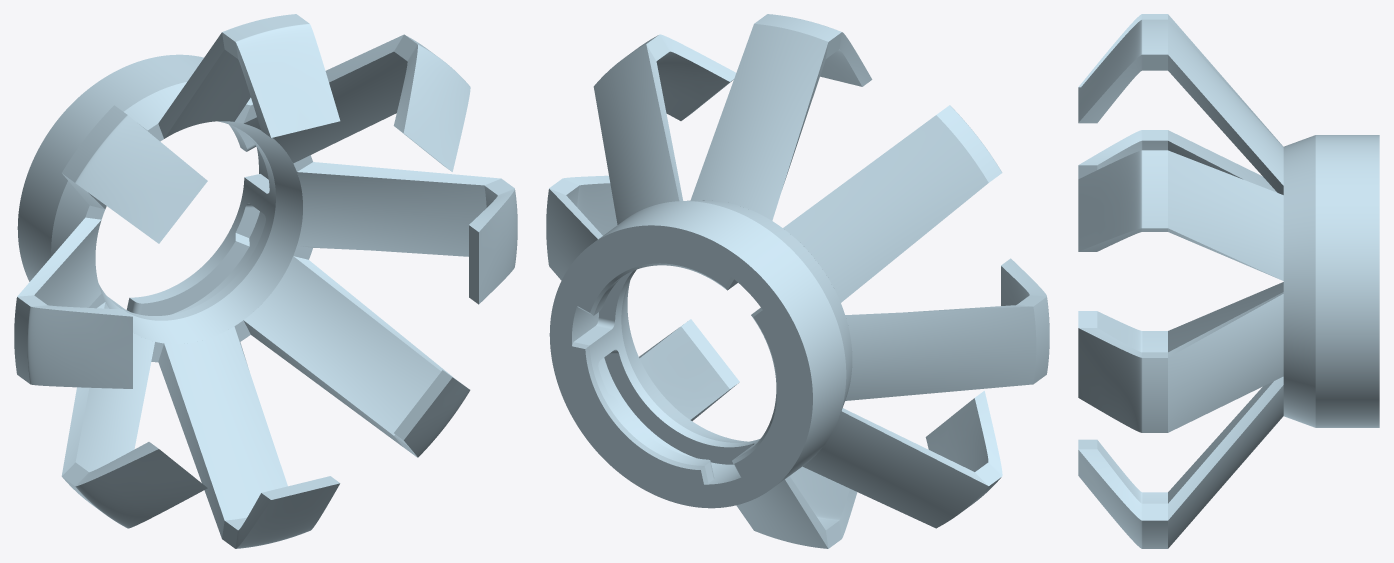
File: diamond_holder.gltf
3 renders of one model, left to right at view 1: azimuth 30°, elevation 25°; view 2: azimuth 150°, elevation 25°; view 3: azimuth 270°, elevation 25°, orthographic. The views are drawn at different scales.
Parts seen in each view (by area): view 1: mesh64_meshnode_64, mesh162_meshnode_162, mesh78_meshnode_78, mesh7_meshnode_7, mesh110_meshnode_110, mesh5_meshnode_5, mesh96_meshnode_96, mesh124_meshnode_124, mesh148_meshnode_148, mesh82_meshnode_82, mesh138_meshnode_138, mesh92_meshnode_92 (+27 smaller); view 2: mesh3_meshnode_3, mesh118_meshnode_118, mesh104_meshnode_104, mesh132_meshnode_132, mesh7_meshnode_7, mesh90_meshnode_90, mesh146_meshnode_146, mesh52_meshnode_52, mesh8_meshnode_8, mesh76_meshnode_76, mesh136_meshnode_136, mesh19_meshnode_19 (+20 smaller); view 3: mesh7_meshnode_7, mesh146_meshnode_146, mesh4_meshnode_4, mesh160_meshnode_160, mesh138_meshnode_138, mesh152_meshnode_152, mesh132_meshnode_132, mesh62_meshnode_62, mesh124_meshnode_124, mesh141_meshnode_141, mesh155_meshnode_155, mesh92_meshnode_92 (+19 smaller).
Boxes of the visible parts, x1=… form: mesh64_meshnode_64: x1=244, y1=256, x2=441, y2=435; mesh162_meshnode_162: x1=297, y1=172, x2=486, y2=256; mesh78_meshnode_78: x1=164, y1=326, x2=287, y2=520; mesh7_meshnode_7: x1=17, y1=54, x2=203, y2=281; mesh110_meshnode_110: x1=75, y1=115, x2=207, y2=243; mesh5_meshnode_5: x1=99, y1=121, x2=302, y2=344; mesh96_meshnode_96: x1=27, y1=306, x2=132, y2=388; mesh124_meshnode_124: x1=235, y1=23, x2=340, y2=137; mesh148_meshnode_148: x1=244, y1=51, x2=407, y2=163; mesh82_meshnode_82: x1=75, y1=449, x2=207, y2=528; mesh138_meshnode_138: x1=404, y1=44, x2=470, y2=171; mesh92_meshnode_92: x1=75, y1=302, x2=154, y2=472; mesh3_meshnode_3: x1=549, y1=225, x2=812, y2=508; mesh118_meshnode_118: x1=783, y1=115, x2=988, y2=302; mesh104_meshnode_104: x1=845, y1=306, x2=1036, y2=400; mesh132_meshnode_132: x1=690, y1=24, x2=828, y2=220; mesh7_meshnode_7: x1=595, y1=201, x2=846, y2=485; mesh90_meshnode_90: x1=802, y1=411, x2=988, y2=528; mesh146_meshnode_146: x1=593, y1=44, x2=679, y2=224; mesh52_meshnode_52: x1=639, y1=326, x2=729, y2=419; mesh8_meshnode_8: x1=589, y1=269, x2=760, y2=465; mesh76_meshnode_76: x1=736, y1=479, x2=827, y2=548; mesh136_meshnode_136: x1=656, y1=51, x2=729, y2=120; mesh19_meshnode_19: x1=604, y1=354, x2=752, y2=464; mesh7_meshnode_7: x1=1315, y1=135, x2=1379, y2=427; mesh146_meshnode_146: x1=1168, y1=150, x2=1283, y2=280; mesh4_meshnode_4: x1=1283, y1=135, x2=1315, y2=427; mesh160_meshnode_160: x1=1168, y1=294, x2=1283, y2=432; mesh138_meshnode_138: x1=1078, y1=150, x2=1142, y2=251; mesh152_meshnode_152: x1=1078, y1=328, x2=1142, y2=432; mesh132_meshnode_132: x1=1168, y1=20, x2=1283, y2=185; mesh62_meshnode_62: x1=1168, y1=385, x2=1283, y2=548; mesh124_meshnode_124: x1=1078, y1=20, x2=1142, y2=122; mesh141_meshnode_141: x1=1142, y1=150, x2=1167, y2=228; mesh155_meshnode_155: x1=1142, y1=358, x2=1167, y2=432; mesh92_meshnode_92: x1=1168, y1=282, x2=1283, y2=352.
Bounding box in the file's own units: 0.085 × 0.085 × 0.047.
